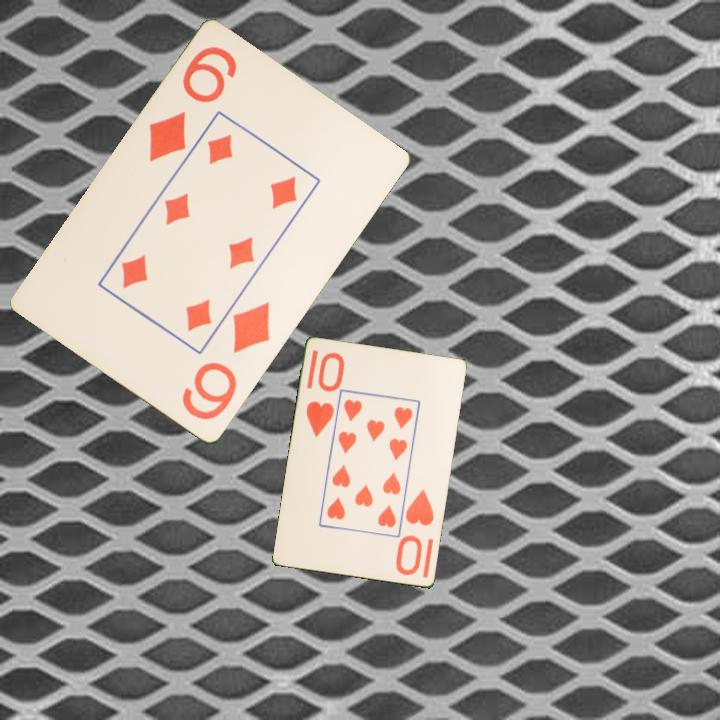10h: (394, 486, 437, 579), (303, 349, 345, 440)
6d: (178, 298, 274, 424), (145, 43, 240, 165)
